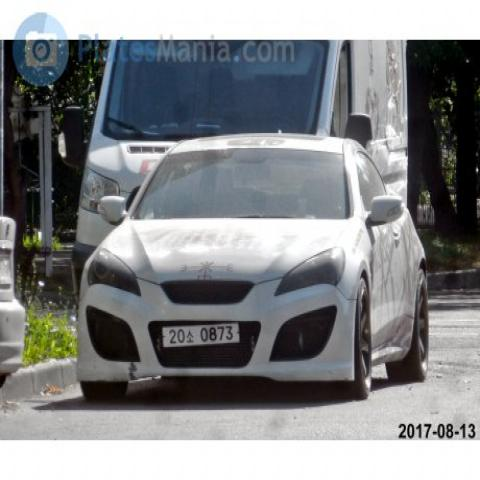LP: (151, 311, 243, 355)
